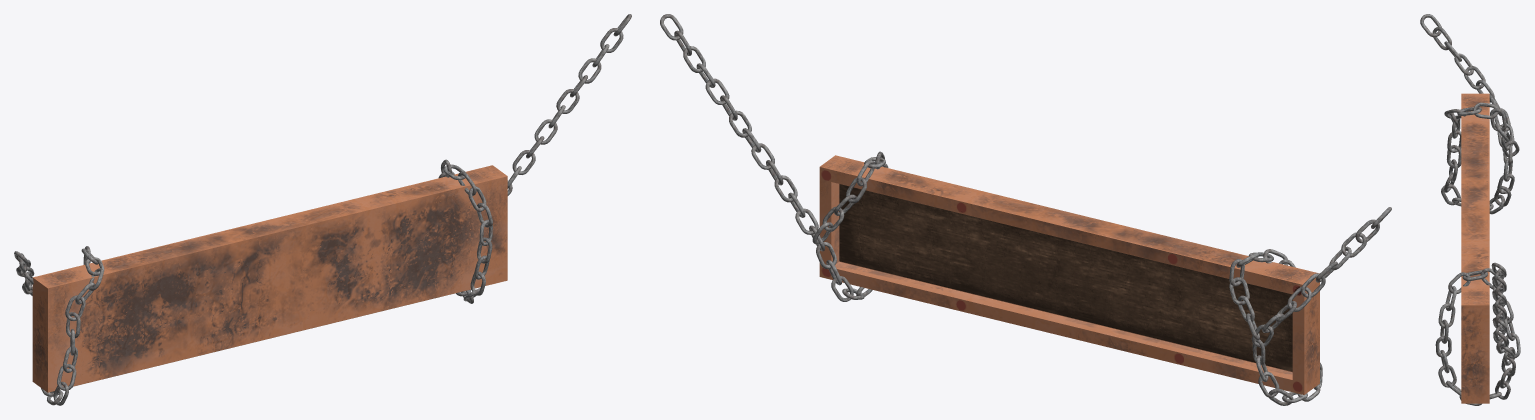
Rendered from credit.gltf.
The picture shows the model from 3 angles, left to right: view 1: azimuth 30°, elevation 25°; view 2: azimuth 150°, elevation 25°; view 3: azimuth 270°, elevation 25°; orthographic projection. The views are drawn at different scales.
Parts seen in each view (by area): view 1: credit, cell; view 2: credit, cell; view 3: credit, cell.
Boxes of the visible parts, <box> form: credit: <box>32,165,507,392</box>; cell: <box>14,14,631,405</box>; credit: <box>819,155,1319,394</box>; cell: <box>660,14,1391,405</box>; credit: <box>1461,93,1489,403</box>; cell: <box>1420,14,1520,405</box>.
Size of the model in its own units: 5.92 by 2.04 by 0.8358.
2 materials, 2 textured.
